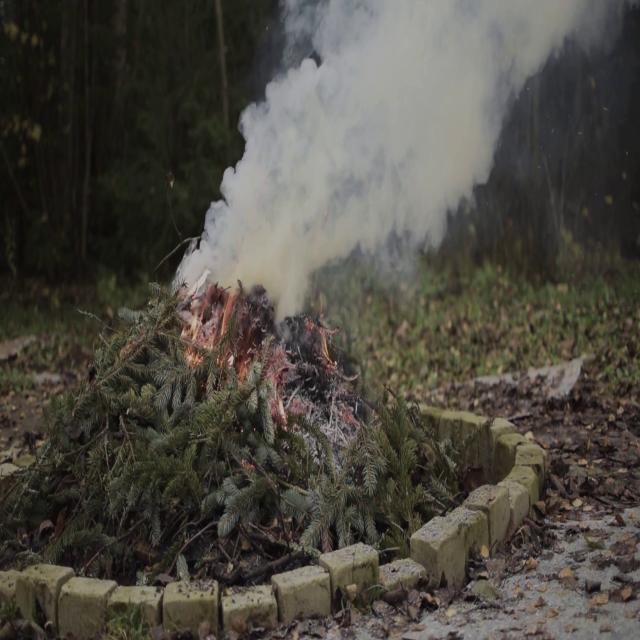Smoke: (170, 0, 596, 312)
